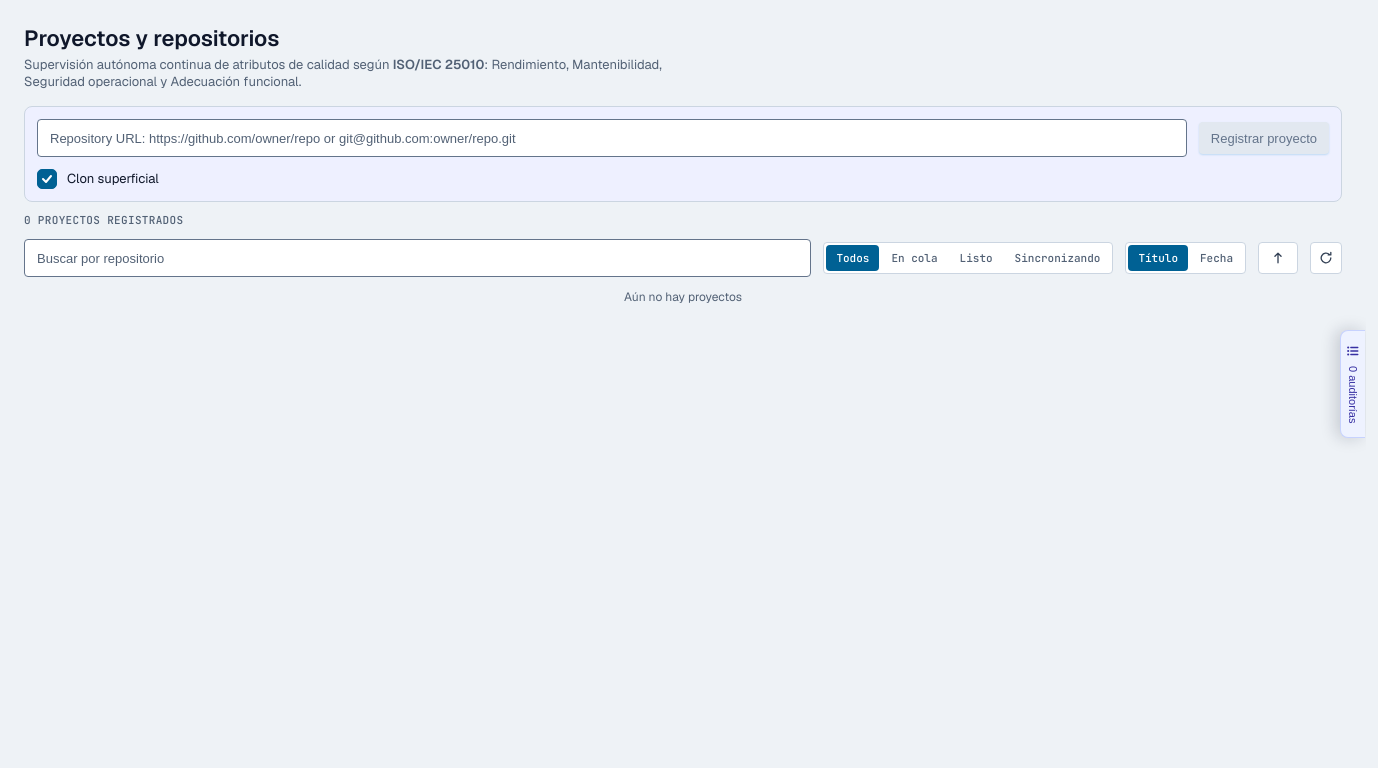
Test case: HomePage in Spanish › toasts the translated registration success
This screenshot has width=1378, height=768.
Type "https://github.com/acme/Demo" into the field with placeholder "Repository URL: https://github.com/owner/repo or git@github.com:owner/repo.git" at point(612, 138), box x1=37 y1=119 x2=1187 y2=157
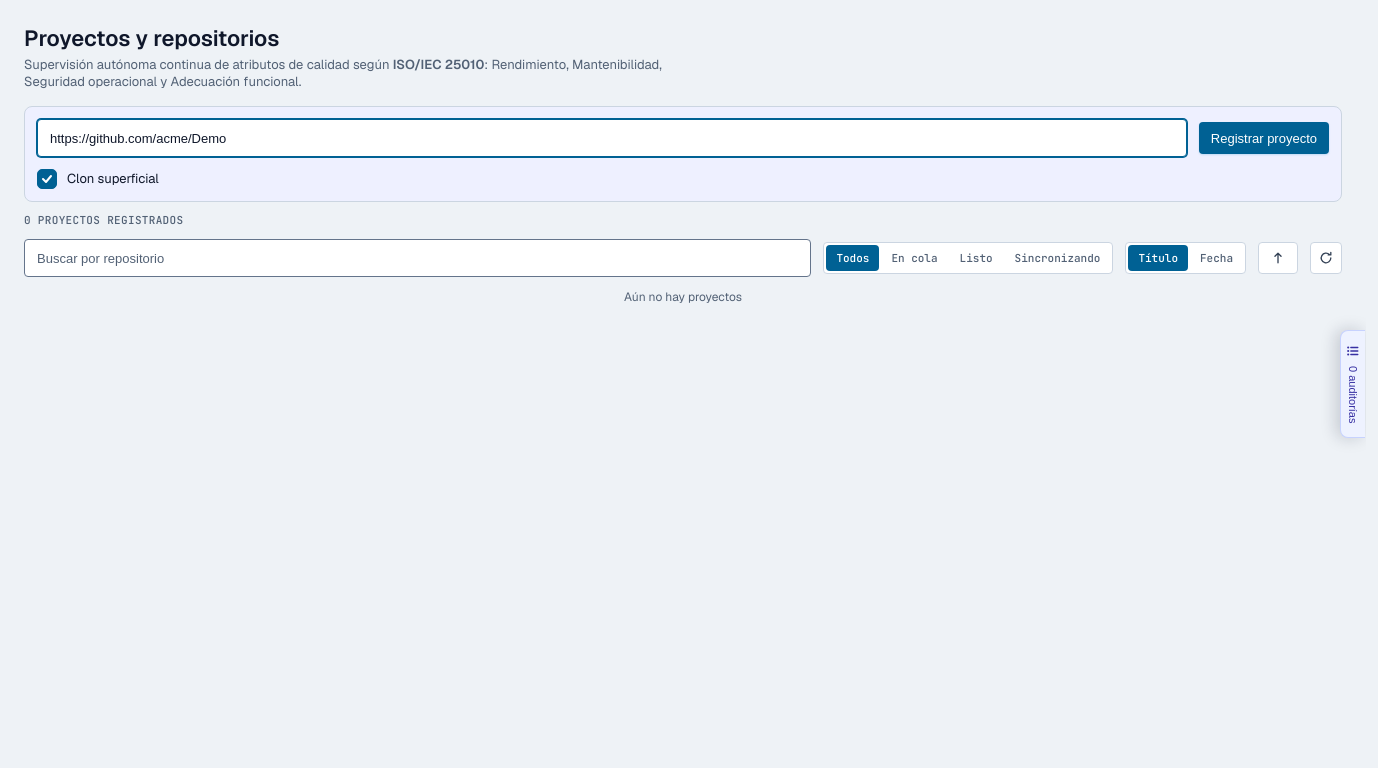
Click the button "Registrar proyecto" at point(1264, 138), box x1=1199 y1=122 x2=1329 y2=154
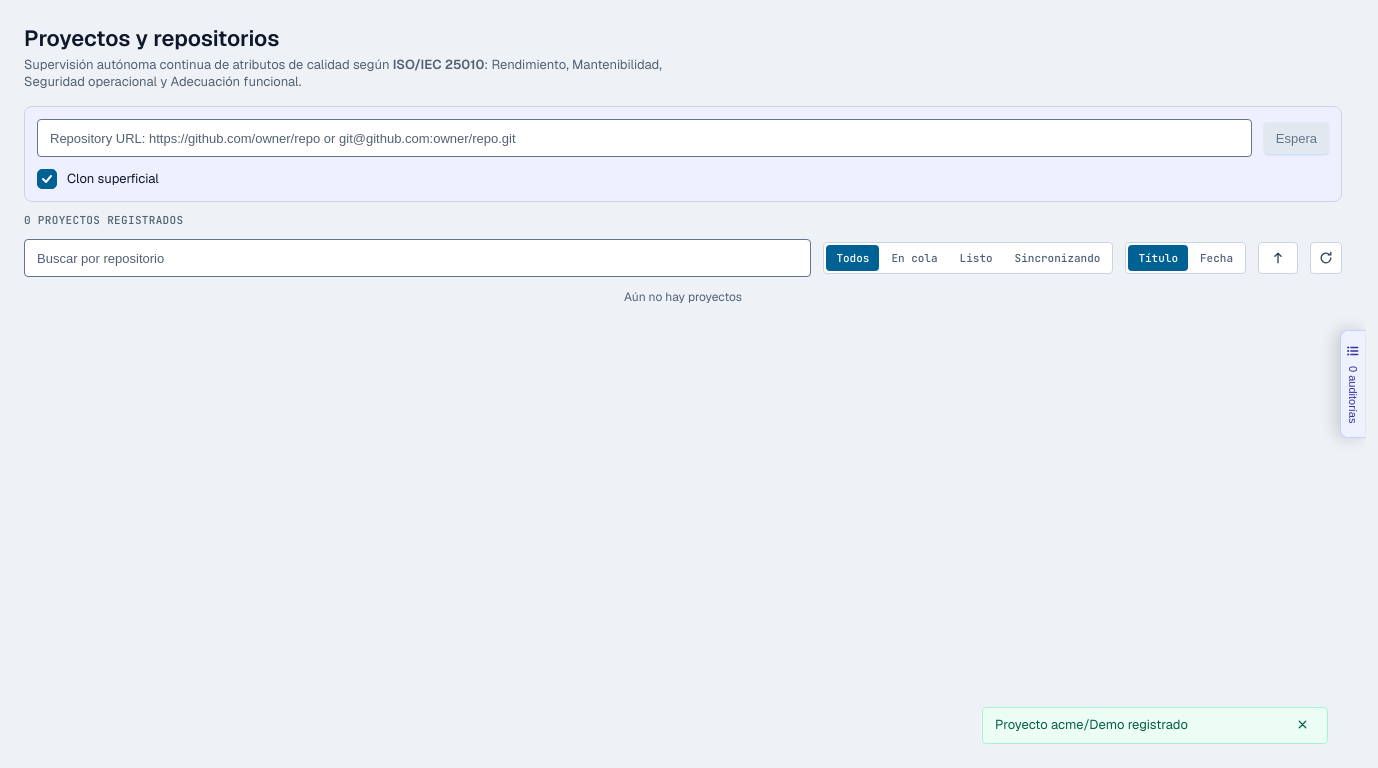
Expected: the text "Proyecto acme/Demo registrado" is shown, x1=995 y1=716 x2=1188 y2=733
